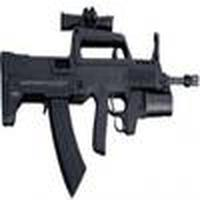gun: (1, 49, 200, 156)
